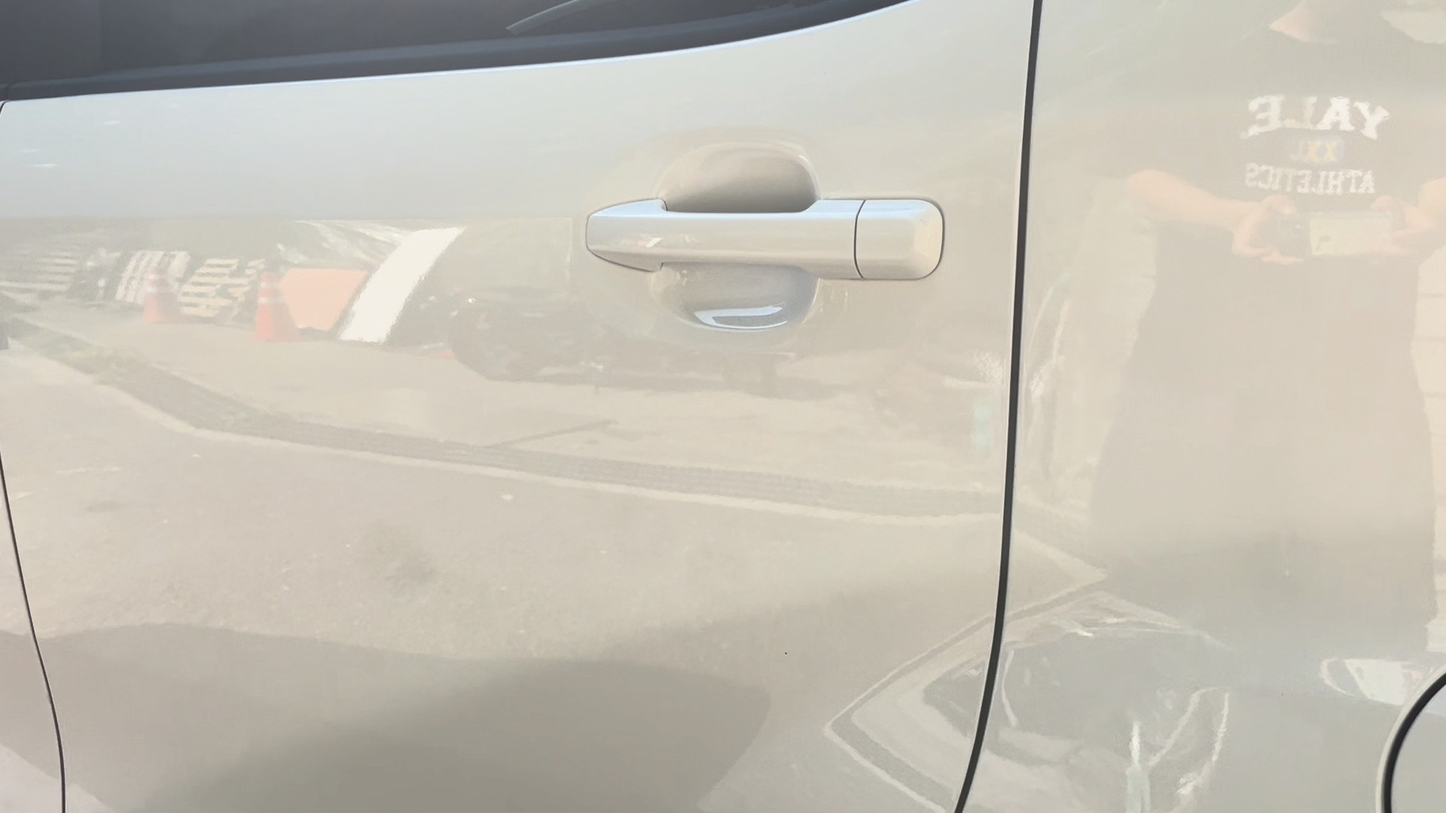door_handle: (583, 193, 944, 281)
